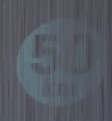Speed limit: (11, 7, 103, 105)
